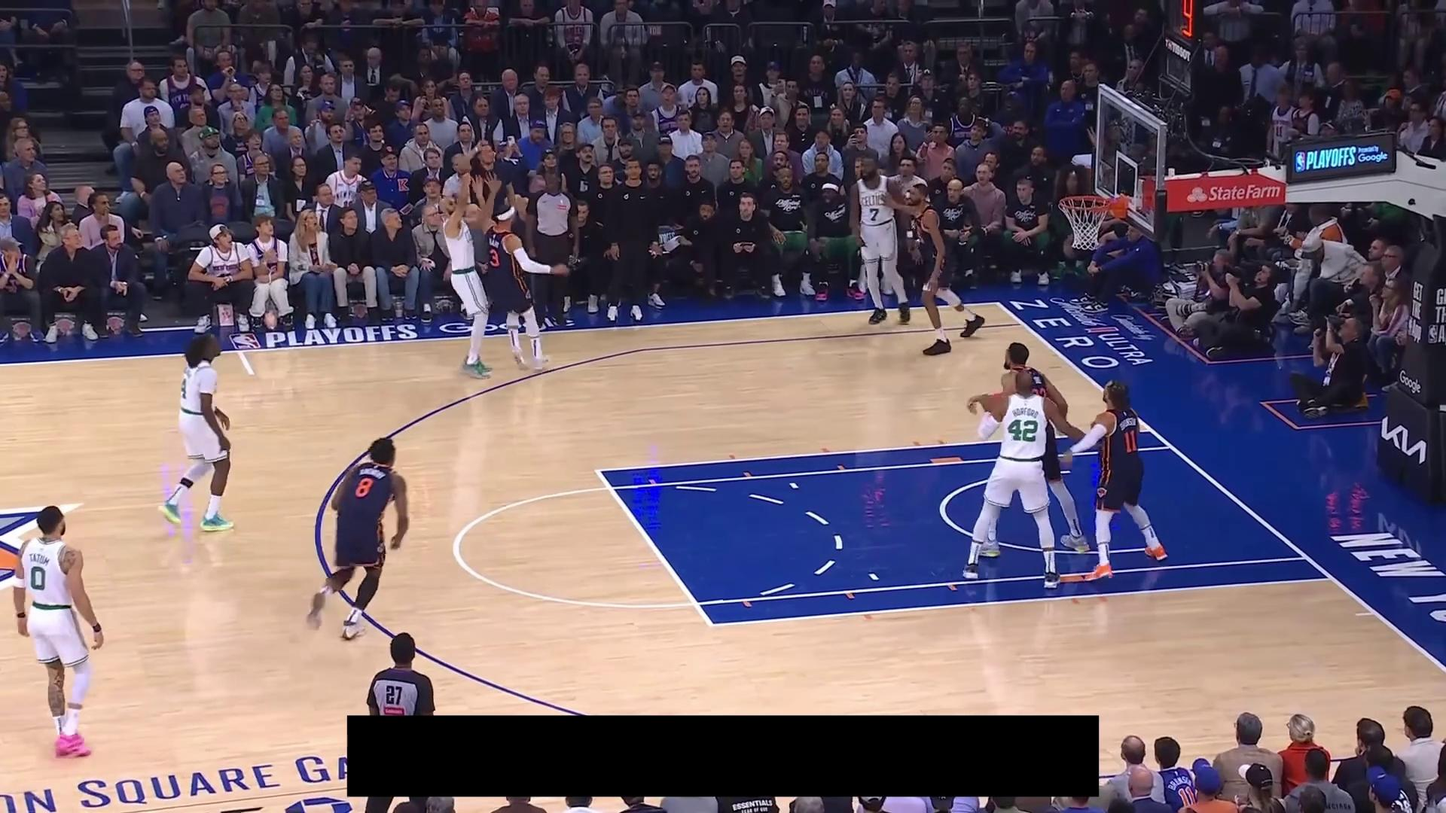number: (1008, 419, 1039, 442), (30, 565, 46, 591), (355, 477, 374, 498), (1123, 429, 1138, 454), (488, 248, 499, 267), (868, 206, 880, 222), (180, 378, 188, 400)
player: (964, 372, 1089, 590), (967, 340, 1088, 558), (12, 504, 105, 760), (304, 435, 410, 641), (1064, 376, 1169, 583), (469, 173, 570, 374), (882, 181, 987, 356), (157, 330, 237, 533), (440, 170, 507, 380), (849, 155, 914, 326)
referee: (365, 632, 437, 813), (525, 169, 580, 328)
rim: (1058, 195, 1112, 212)
